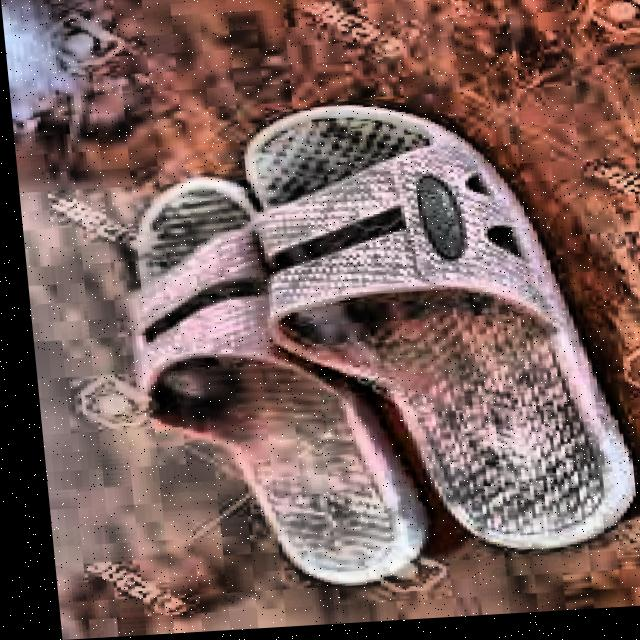shoes: (95, 85, 640, 601)
